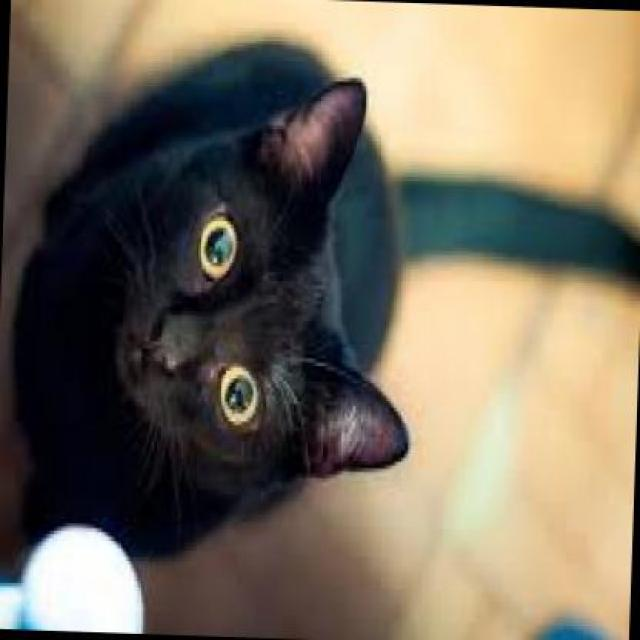animals: (12, 20, 638, 560)
